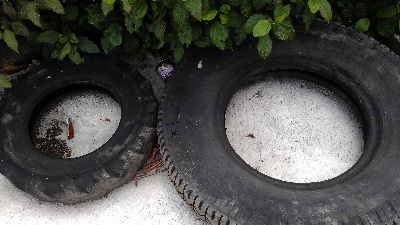tire: (159, 12, 400, 224), (1, 55, 161, 207)
